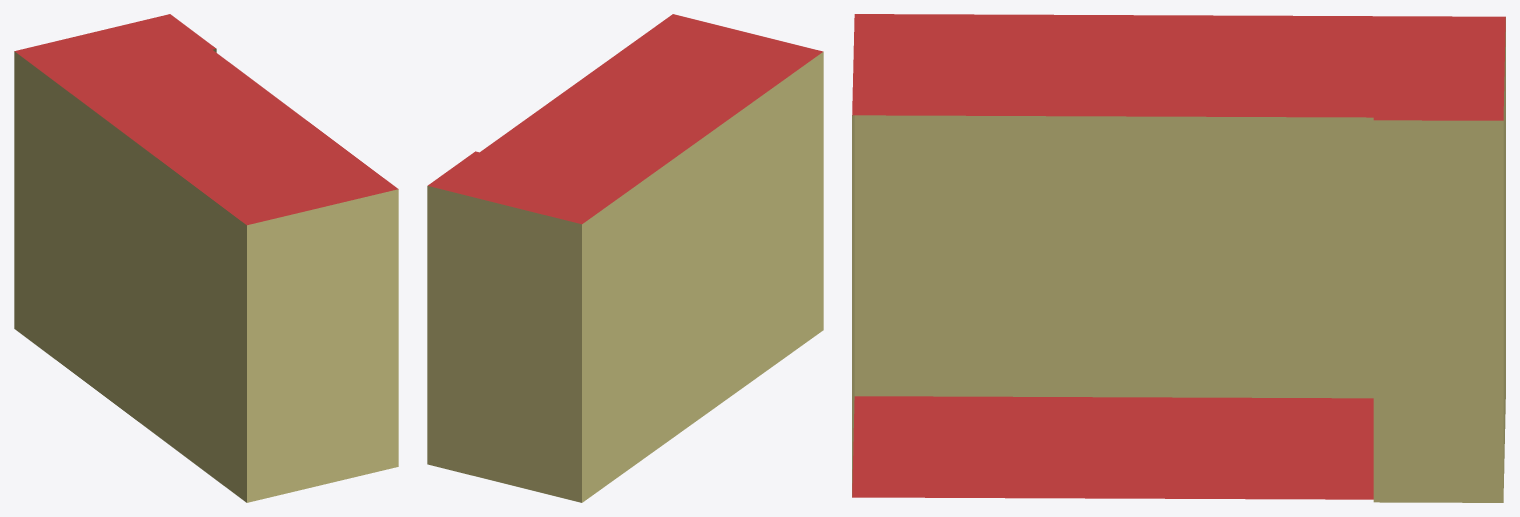
The picture shows the model from 3 angles, left to right: view 1: azimuth 30°, elevation 25°; view 2: azimuth 150°, elevation 25°; view 3: azimuth 270°, elevation 25°; orthographic projection. The views are drawn at different scales.
Bounding box in the file's own units: 3.66 × 9.46 × 6.1.
